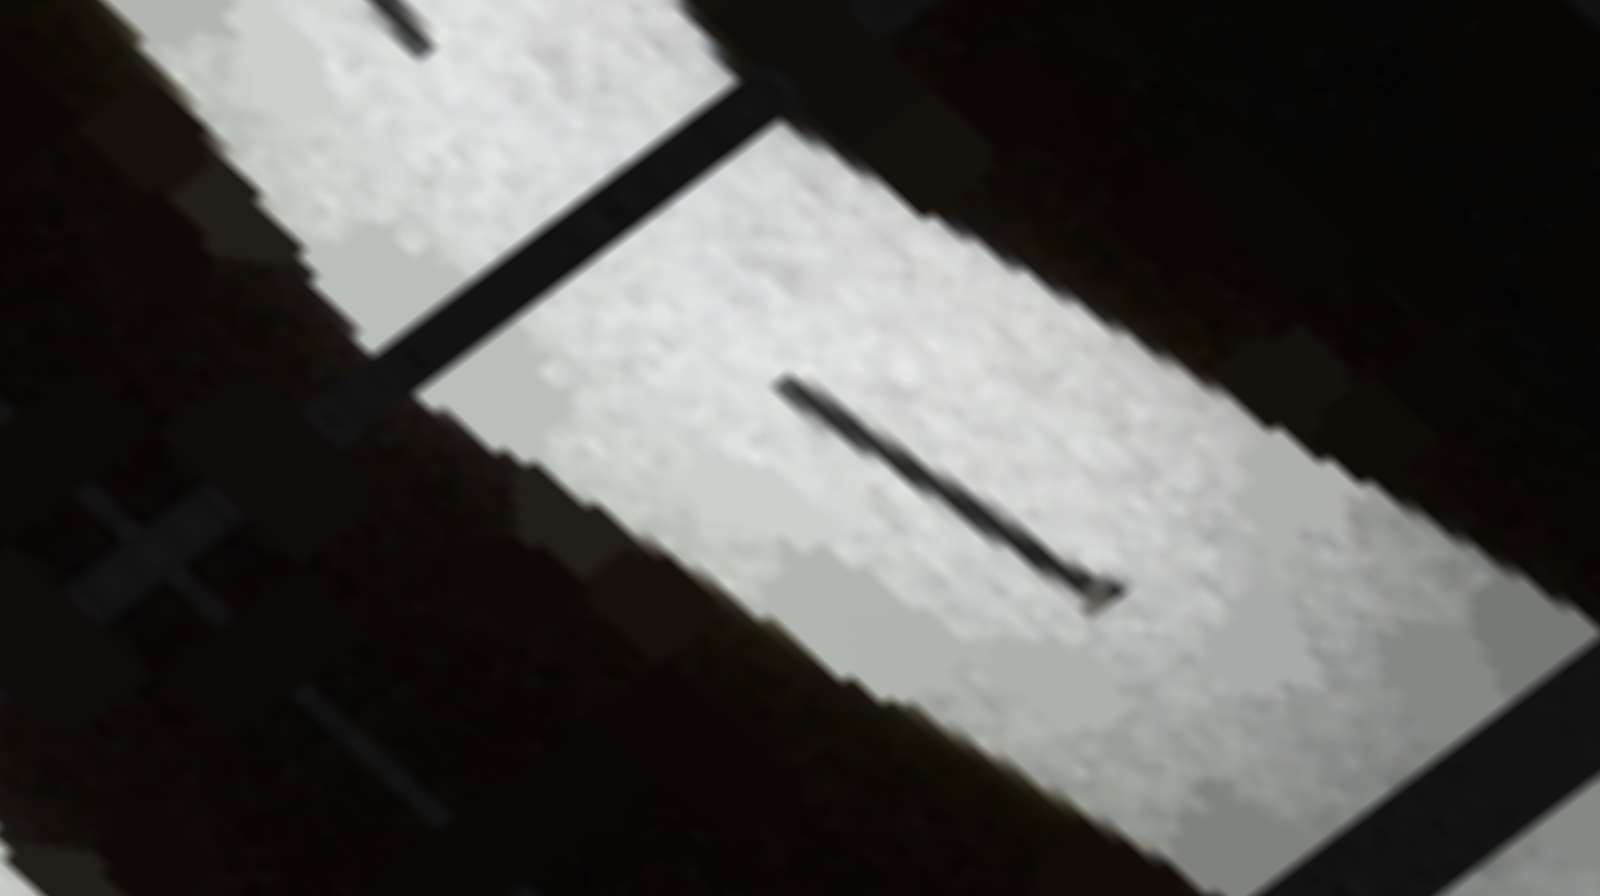S002: (748, 309, 1159, 672)
